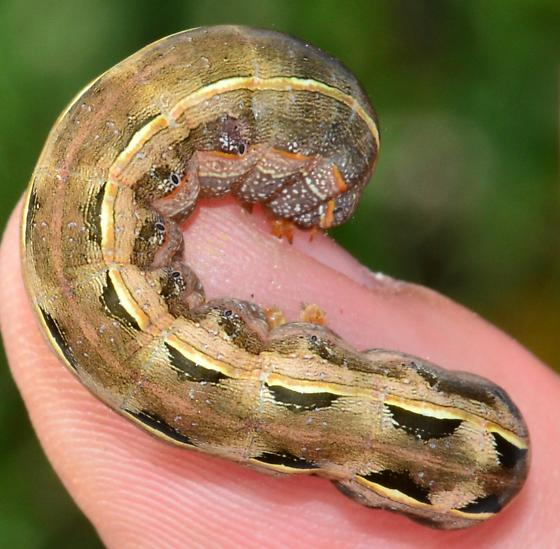Armyworm: (12, 19, 522, 522)
